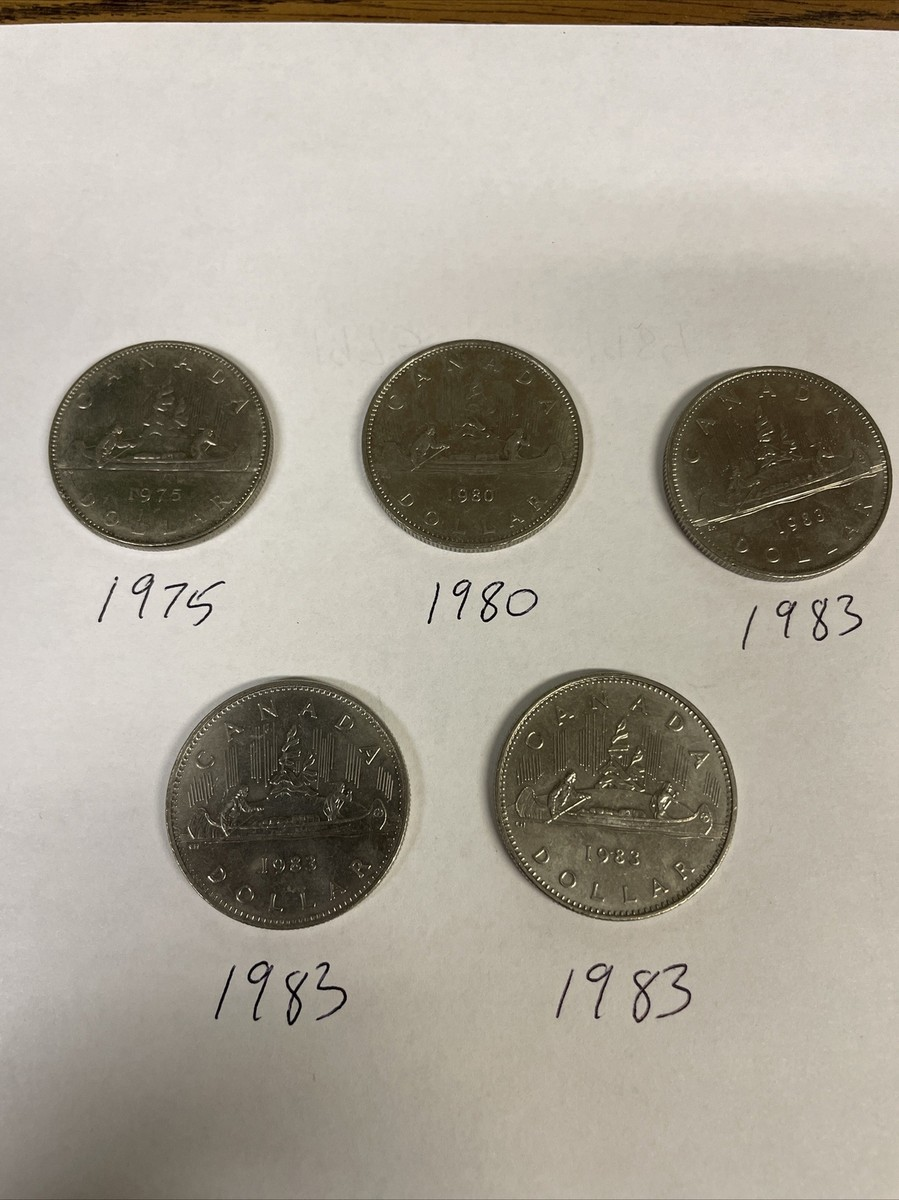coin: (167, 679, 407, 927), (495, 672, 735, 918), (664, 367, 890, 579), (363, 340, 581, 550), (49, 341, 269, 548)
